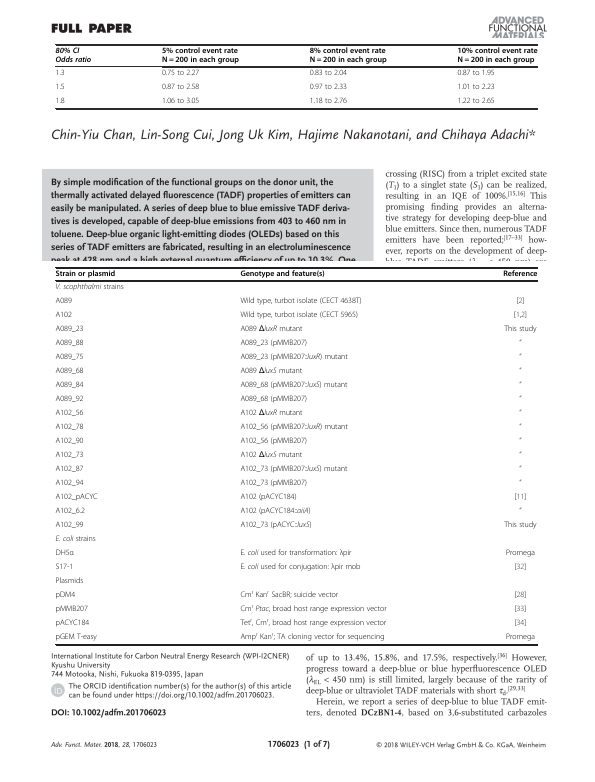borderless: (54, 266, 537, 644), (54, 43, 537, 108)
cell: (239, 603, 387, 615), (239, 617, 387, 629), (239, 631, 385, 643), (457, 47, 538, 65), (161, 47, 240, 65), (309, 47, 388, 65), (239, 297, 362, 307), (239, 563, 361, 573), (239, 311, 359, 321), (239, 589, 339, 601), (239, 549, 352, 559), (239, 353, 349, 363), (239, 423, 349, 433), (239, 381, 348, 391), (239, 465, 348, 475), (239, 270, 326, 279), (239, 521, 312, 531), (239, 507, 311, 517), (55, 283, 125, 293), (239, 339, 308, 349), (239, 395, 308, 405), (239, 437, 308, 447), (239, 479, 308, 489), (239, 325, 303, 335), (239, 367, 303, 377), (239, 409, 303, 419), (239, 451, 303, 461), (55, 47, 92, 64), (239, 493, 297, 503), (55, 270, 116, 279), (55, 493, 99, 503), (55, 633, 98, 643), (55, 535, 97, 545), (55, 619, 90, 629), (503, 325, 537, 335), (503, 521, 537, 531), (55, 605, 89, 615), (502, 270, 538, 279), (55, 507, 86, 517), (505, 549, 536, 559), (505, 633, 536, 643), (55, 325, 84, 335), (55, 339, 84, 349), (55, 353, 84, 363), (55, 367, 84, 377), (55, 381, 84, 391), (55, 395, 84, 405), (55, 409, 84, 419), (55, 423, 84, 433), (55, 437, 84, 447), (55, 451, 84, 461), (55, 465, 84, 475), (55, 479, 84, 489), (55, 521, 84, 531), (55, 577, 84, 587), (161, 70, 200, 77), (309, 70, 348, 77), (457, 70, 496, 77), (161, 84, 200, 91), (309, 84, 348, 91), (457, 84, 496, 91), (161, 98, 200, 105), (309, 98, 348, 105), (457, 98, 496, 105), (55, 591, 76, 601), (55, 549, 75, 559), (55, 563, 74, 573), (55, 297, 73, 307), (55, 311, 73, 321), (513, 311, 528, 321), (513, 493, 527, 503), (513, 563, 527, 573), (513, 591, 527, 601), (513, 605, 527, 615), (513, 619, 527, 629), (515, 297, 525, 307), (55, 70, 65, 77), (55, 84, 65, 91), (55, 98, 65, 105), (518, 339, 522, 347), (518, 353, 522, 361), (518, 367, 522, 375), (518, 381, 522, 389), (518, 395, 522, 403), (518, 409, 522, 417), (518, 423, 522, 431), (518, 437, 522, 445), (518, 451, 522, 459), (518, 465, 522, 473), (518, 479, 522, 487), (518, 507, 522, 515)
